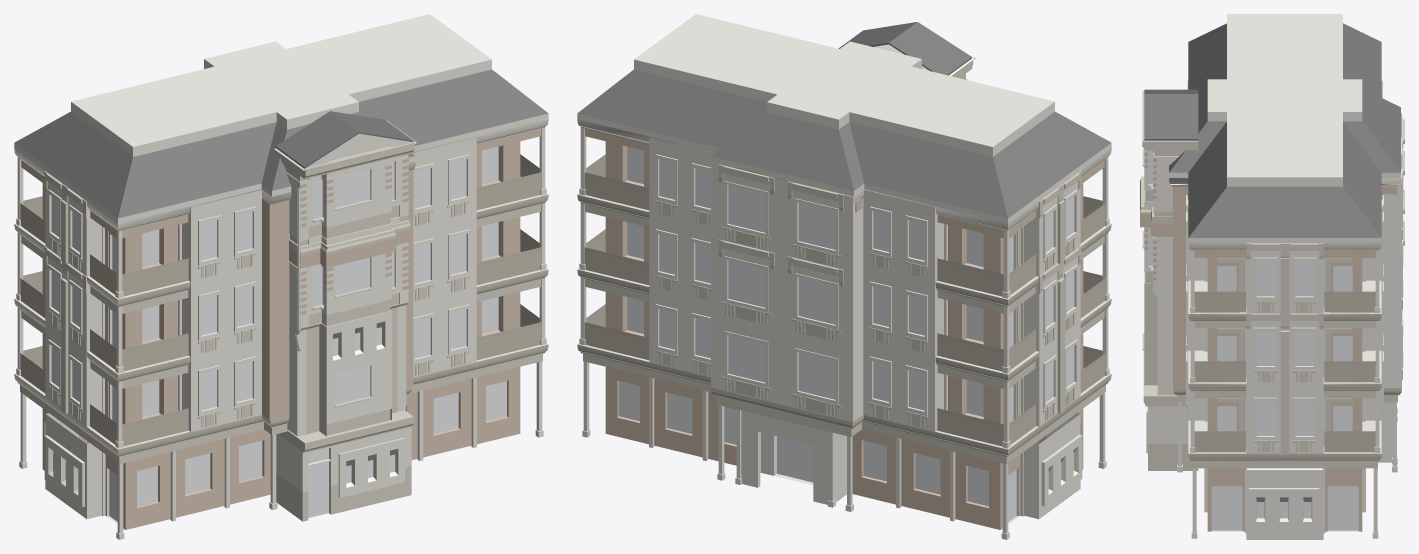
File: departmentBuilding.fbx
3 views of the same model, side by side, from view 1: azimuth 30°, elevation 25°; view 2: azimuth 150°, elevation 25°; view 3: azimuth 270°, elevation 25° (orthographic). The views are drawn at different scales.
Parts seen in each view (by area): view 1: Cube.010; view 2: Cube.010; view 3: Cube.010.
Part boxes in pixels (x1,y1,x2,y2): Cube.010: (14,14,548,539); Cube.010: (577,14,1111,539); Cube.010: (1140,14,1404,539).
Size of the model in its own units: 2433 by 2010 by 1369.
